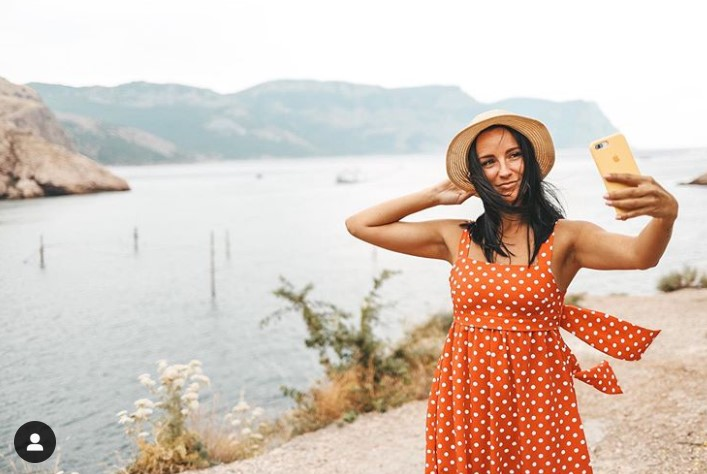face_no_mask: (468, 123, 534, 208)
